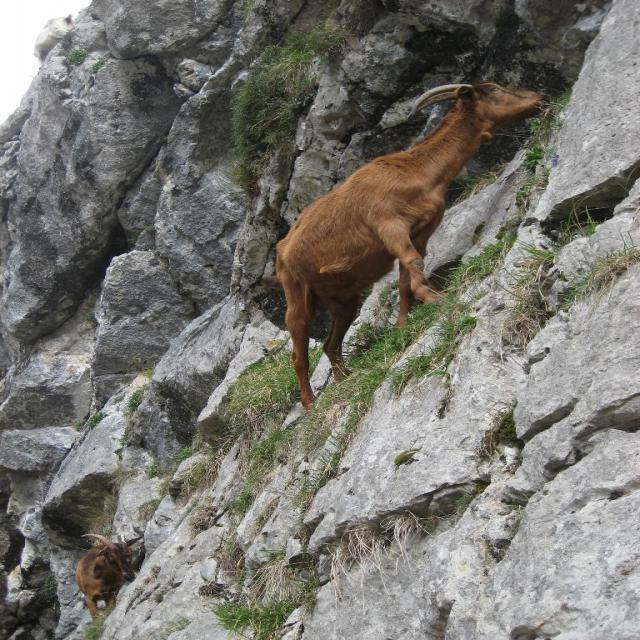Goat: (260, 79, 548, 415)
